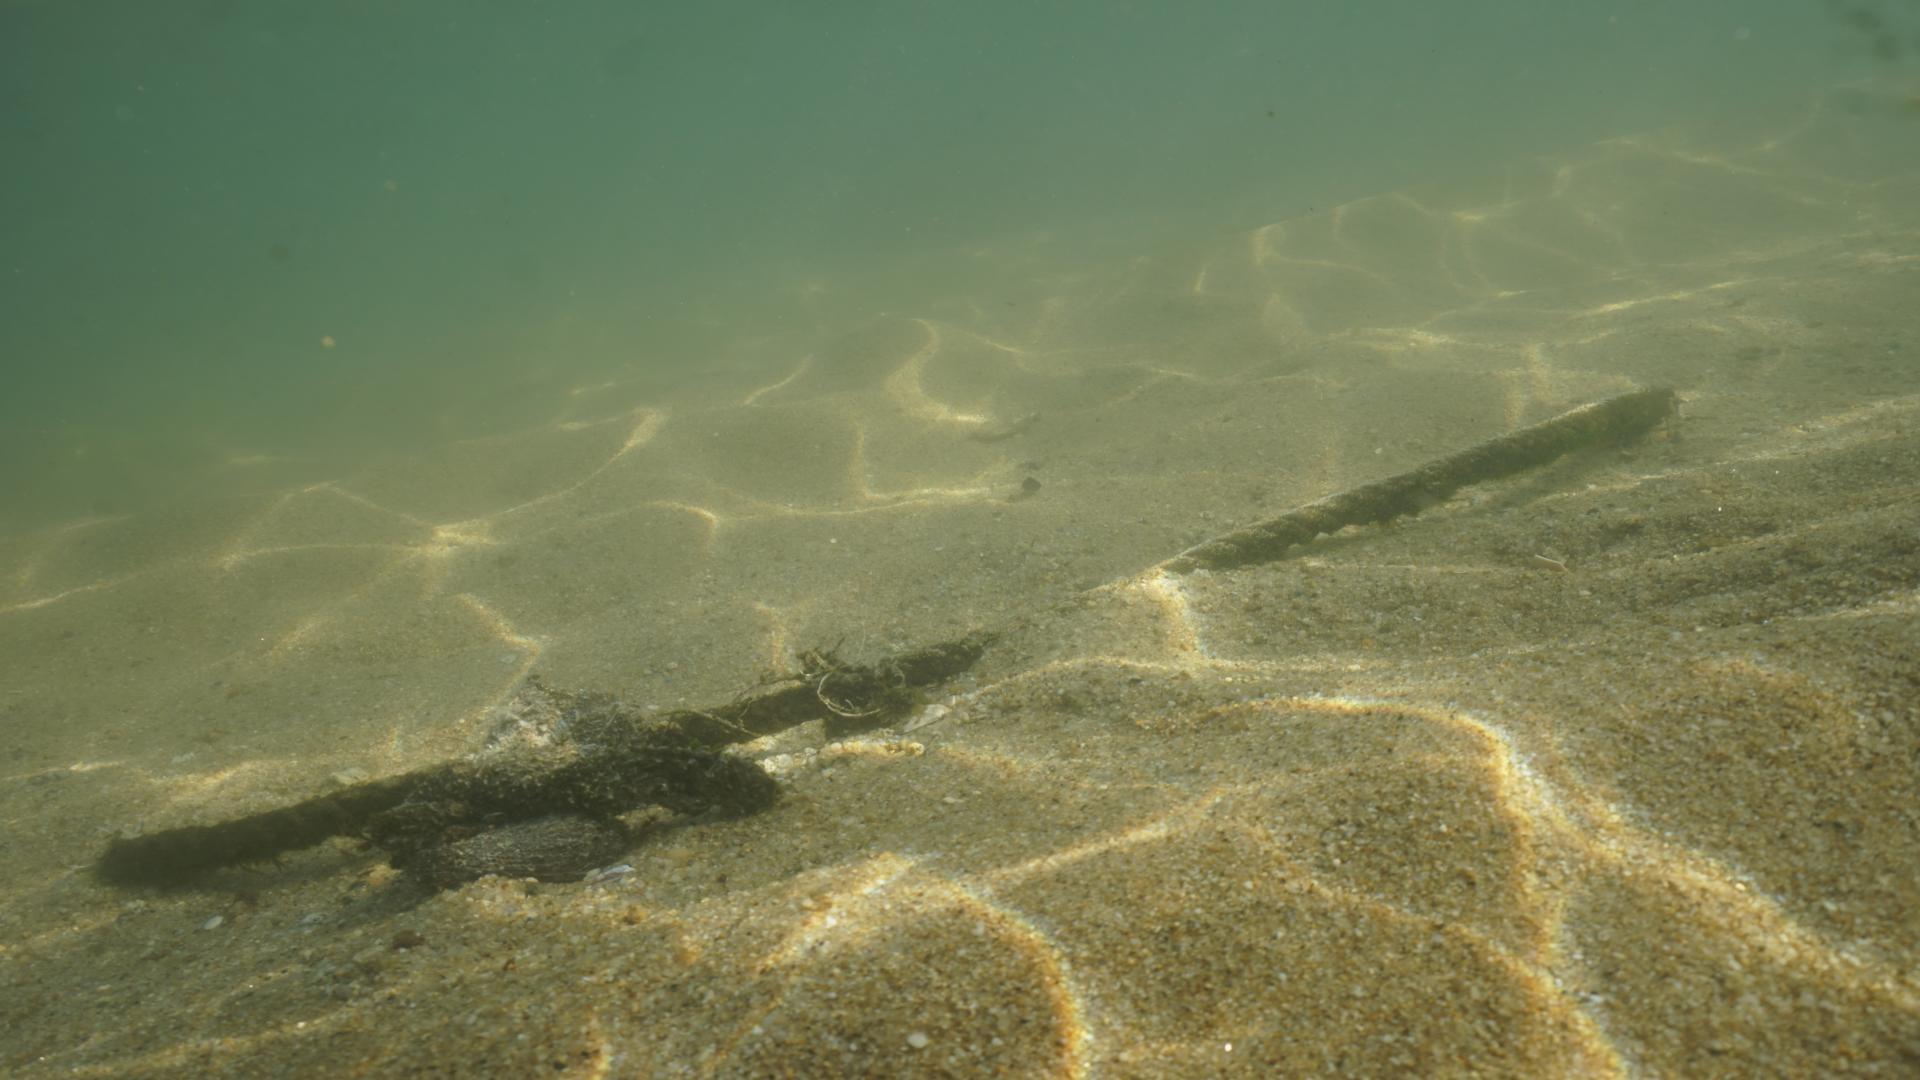rope: (90, 626, 978, 891), (1154, 376, 1667, 574)
